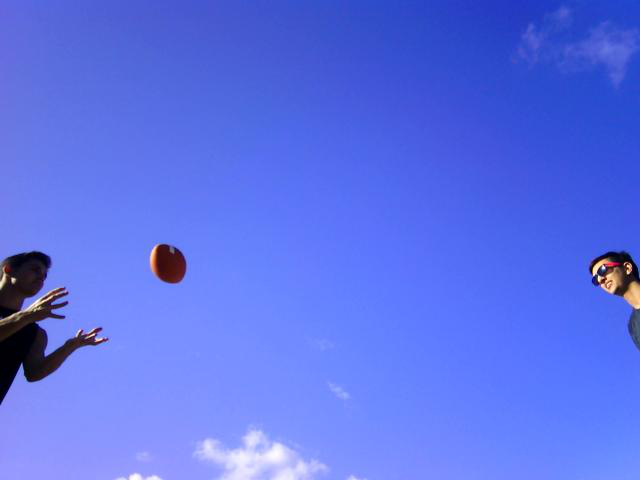football: (146, 239, 192, 286)
